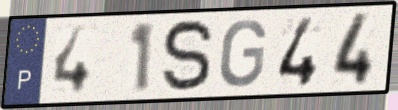1: (127, 20, 155, 95)
4: (330, 11, 376, 89), (275, 14, 320, 89), (51, 23, 95, 97)
G: (217, 18, 269, 90)
S: (160, 17, 216, 96)
